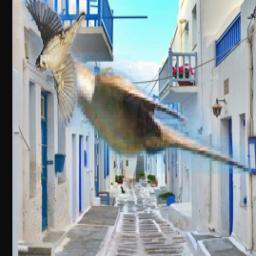Cuckoo: (46, 52, 252, 174)
Sparrow: (21, 0, 86, 129)
